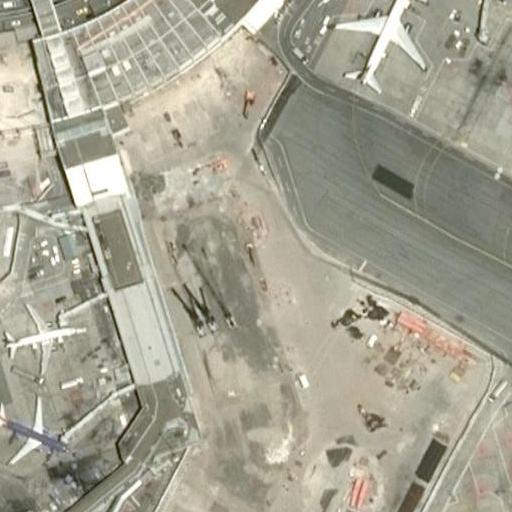Aircraft: (333, 0, 430, 92)
